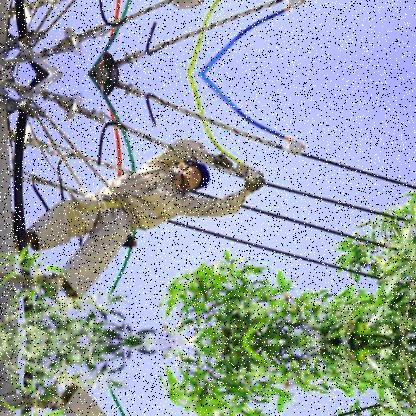Helmet: (165, 150, 217, 206)
